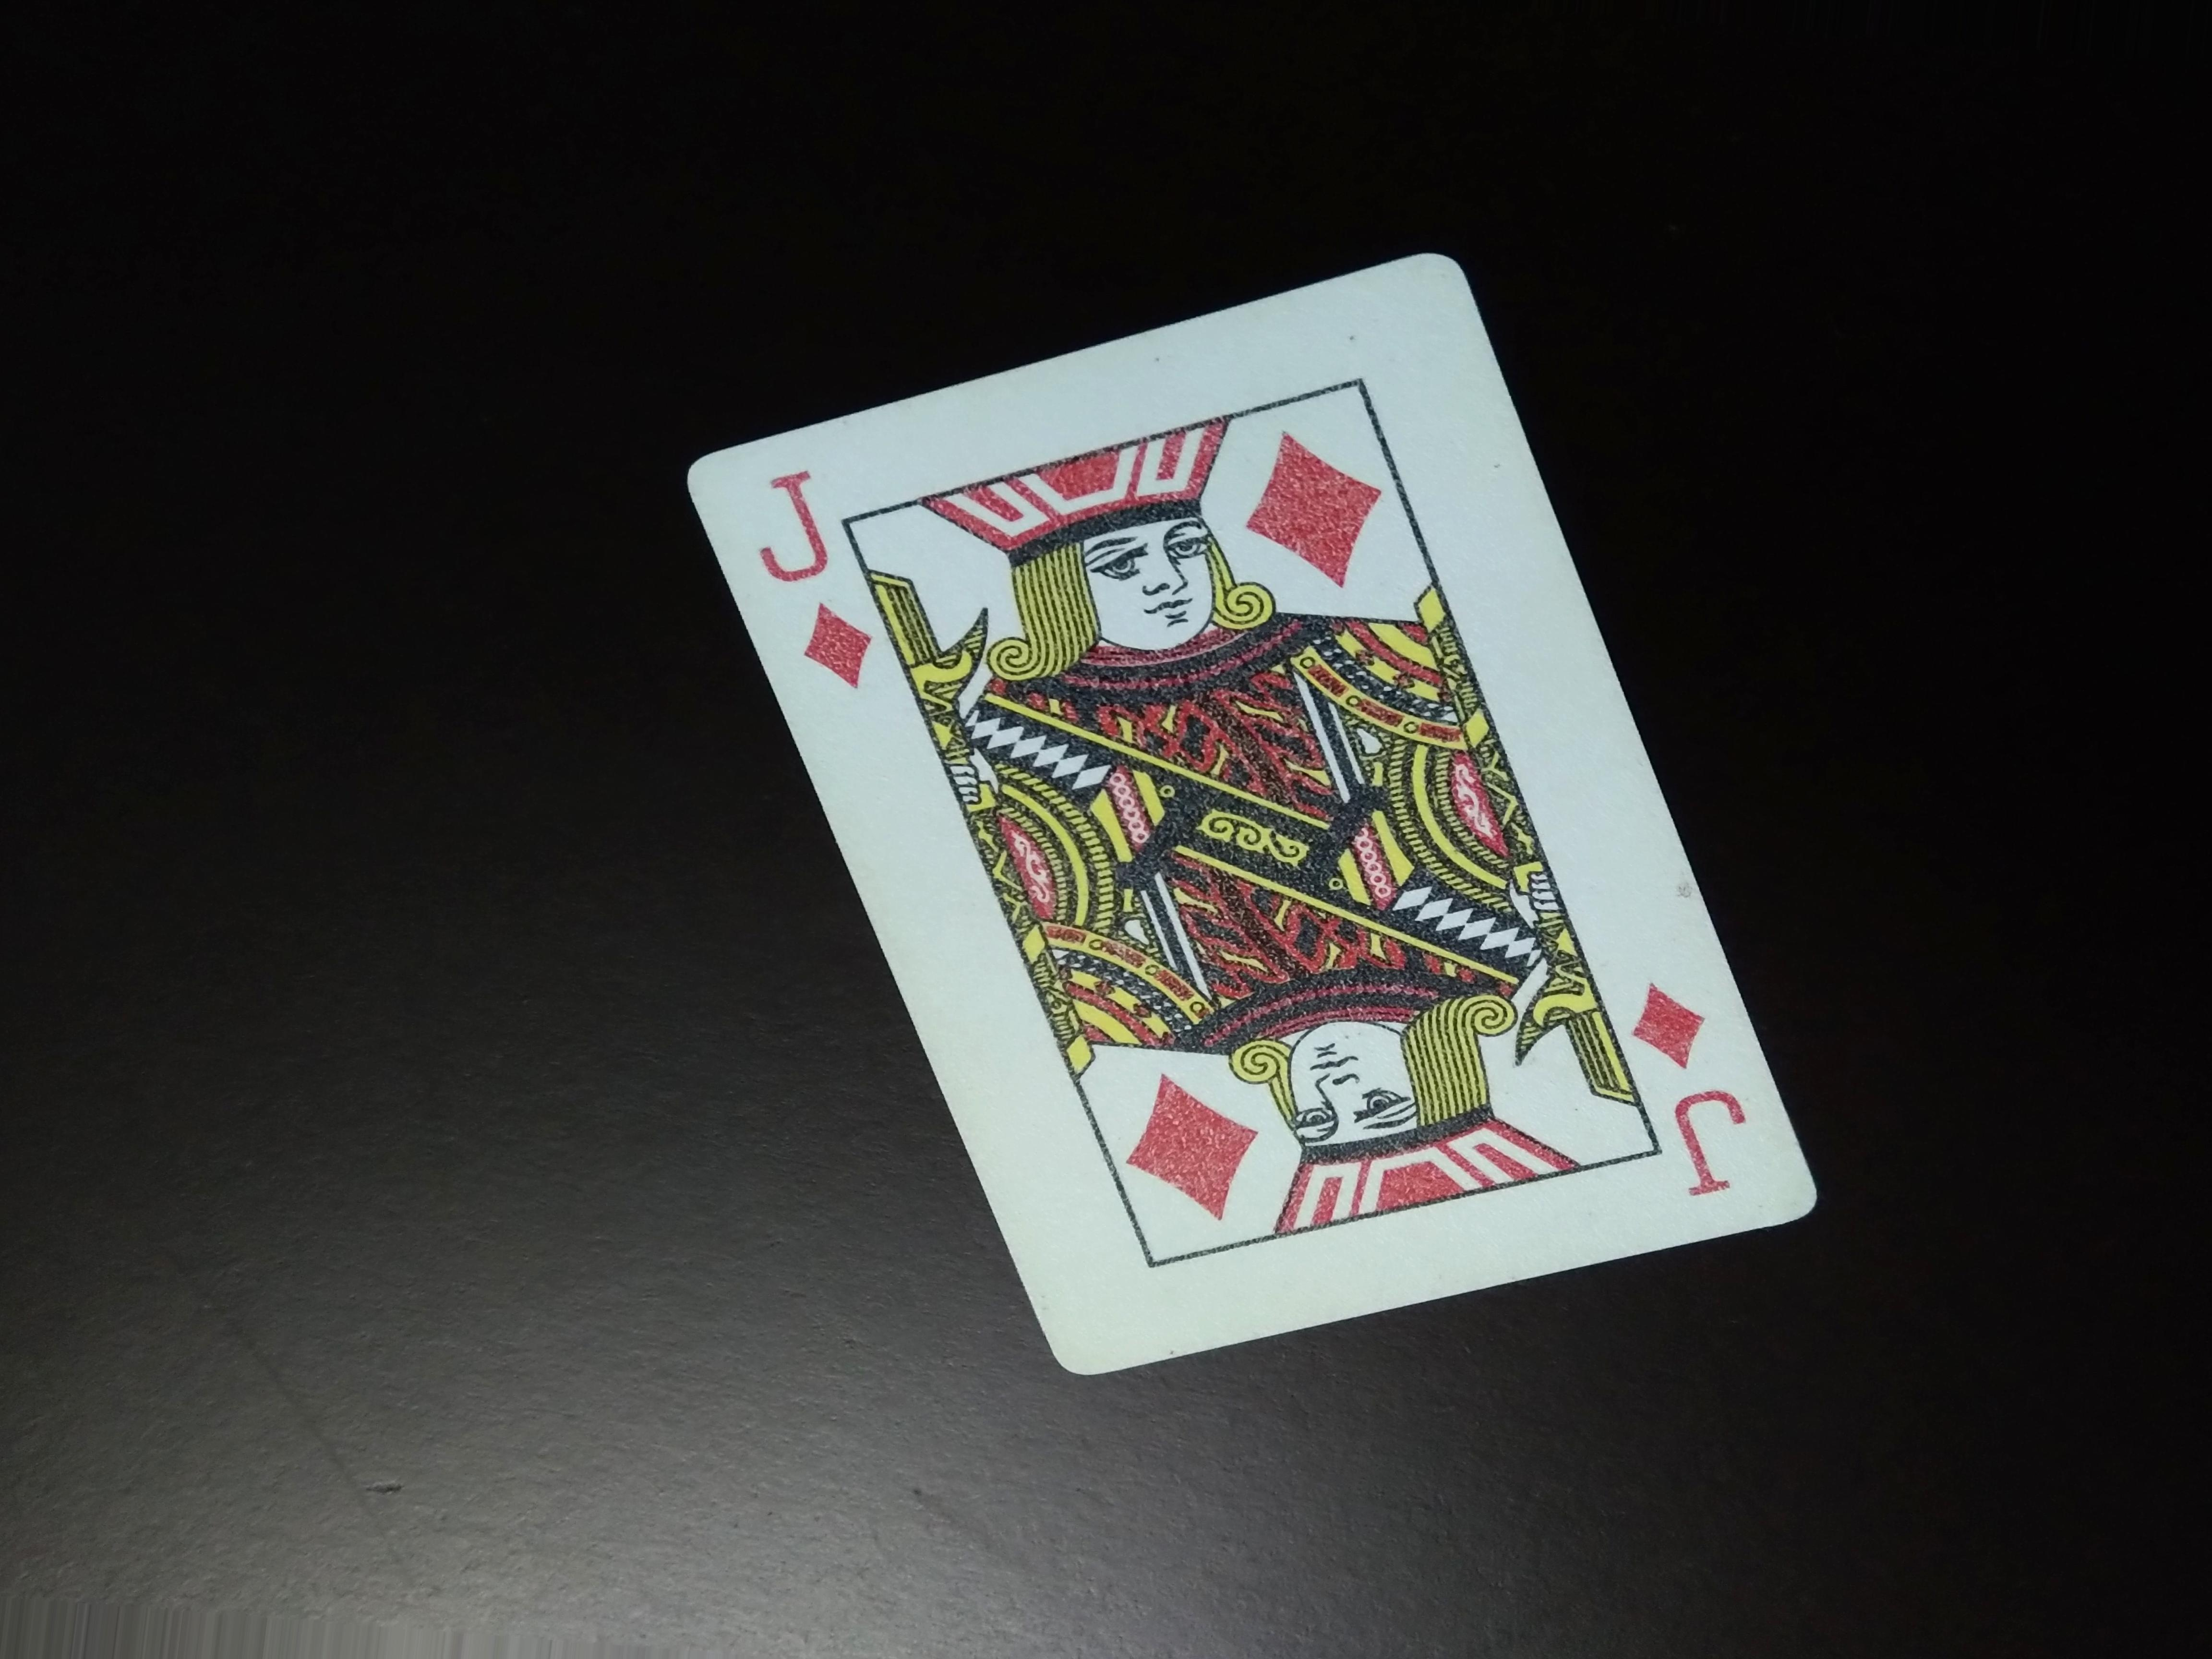JD: (1629, 983, 1761, 1204)
